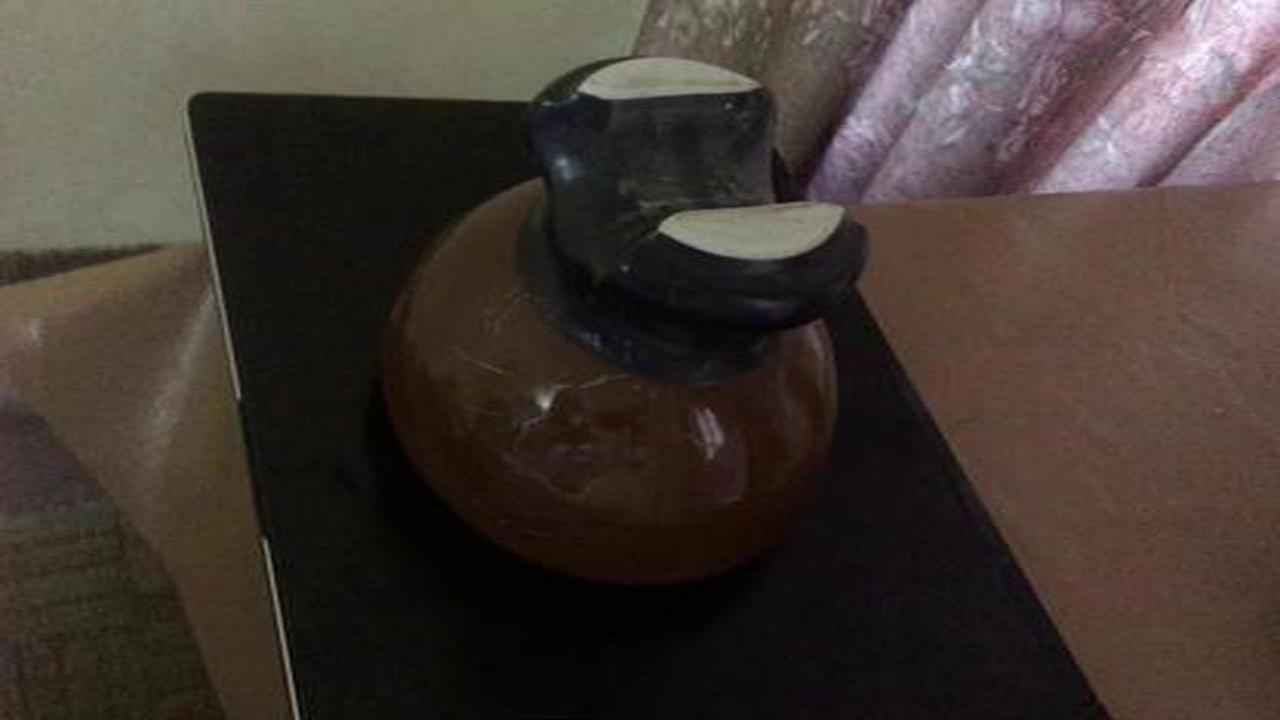insulator_pin: (367, 44, 884, 620)
